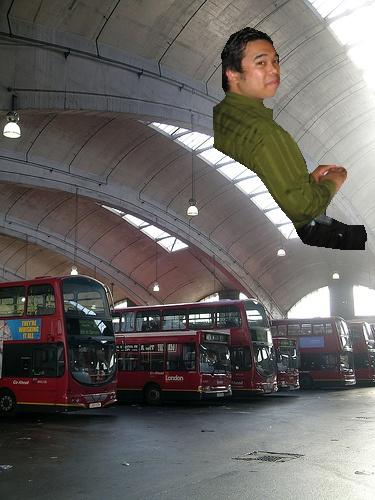tampered: (214, 28, 367, 250)
